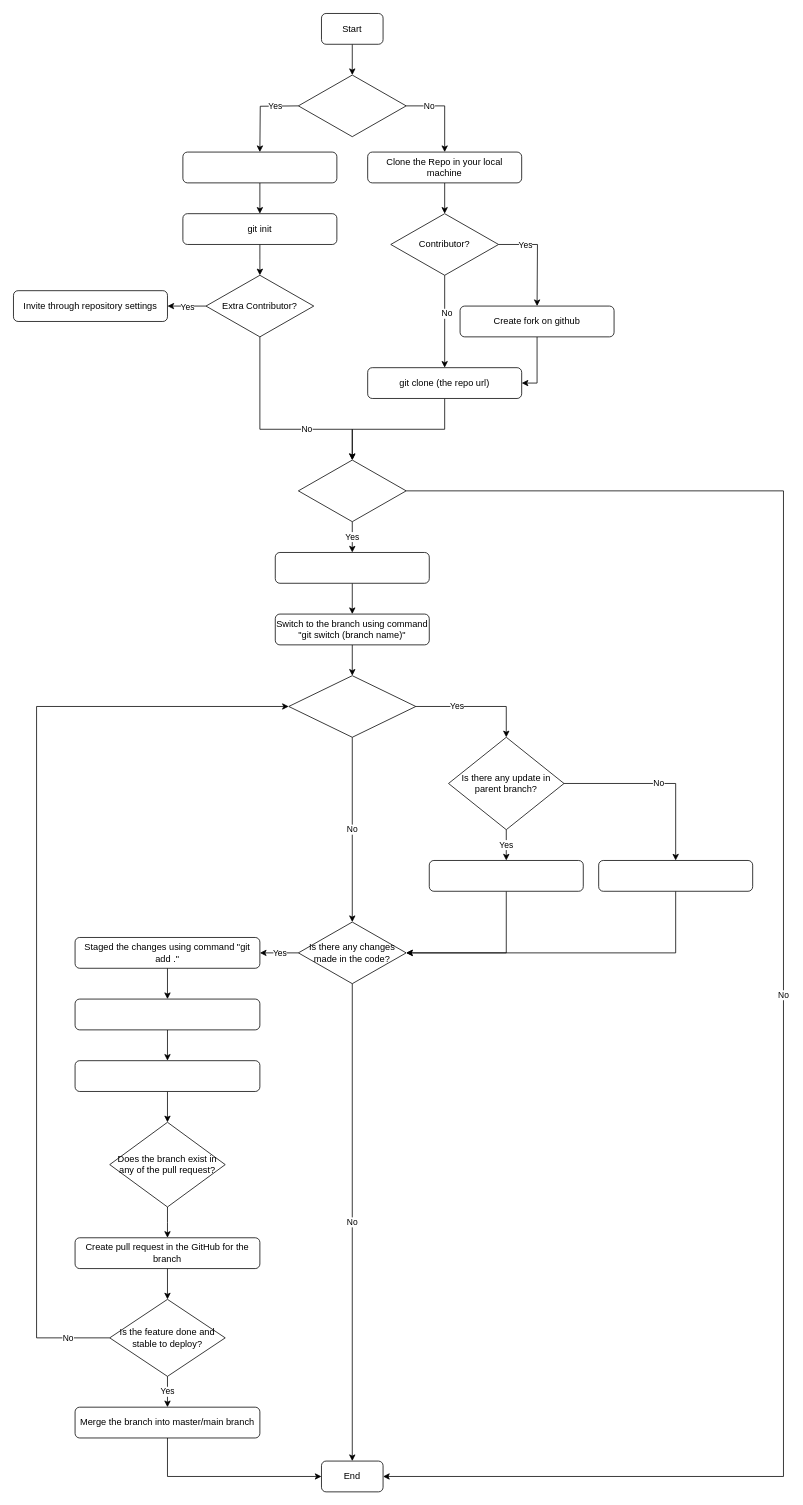
The diagram is 803 pixels wide and 1505 high, and some of its shapes have lost their labels. The centre of each missing label's shape, as x and y in pixels:
Commit the changes by using command "git commit -m *description": point (167, 1014)
Create branch using command "git branch (branch name)": point (352, 567)
Create new Repo in Github: point (259, 167)
Is there any update needed for the branch?: point (352, 706)
Is this new repo?: point (352, 105)
New Feature?: point (352, 490)
Push the commits into the branch using command "git push": point (167, 1075)
Update the branch using command "git pull origin master/main": point (506, 875)
Update the branch using command "git pull": point (675, 875)
